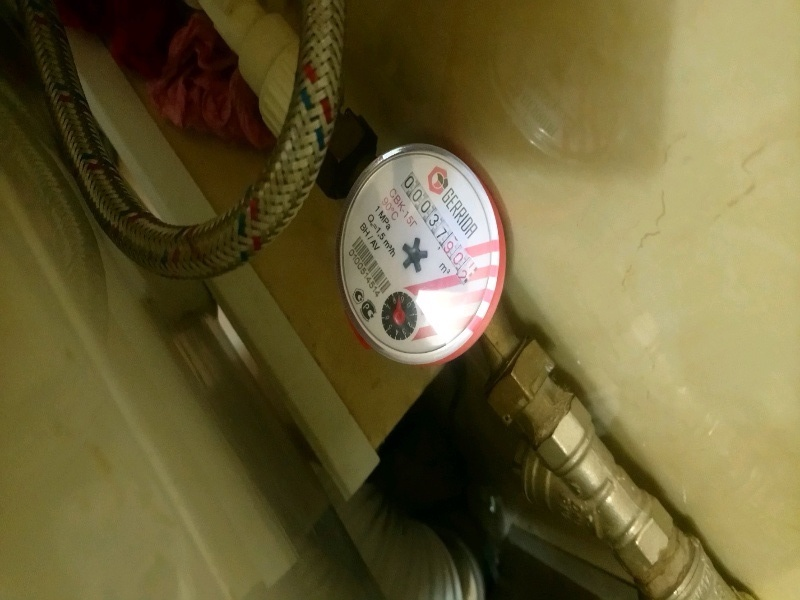meter: (406, 171, 435, 267)
